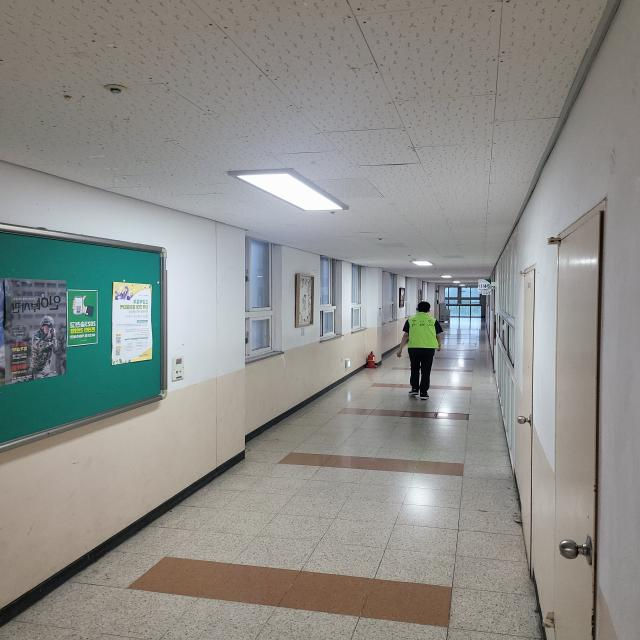weston_spy: (395, 300, 445, 359)
